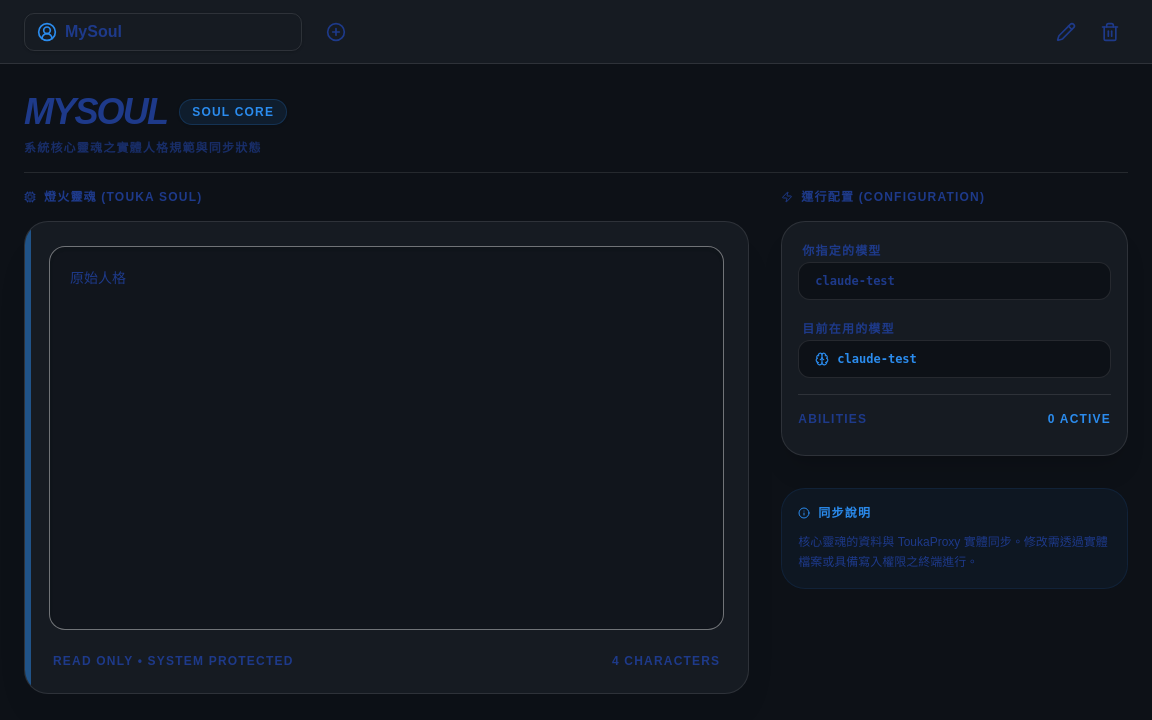
Scenario: SoulStudio — 保存結果必須可見 › 密碼錯誤在視窗內顯示，清密碼但保留草稿
Expected: the heading "MySoul" is shown, [24,92,167,132]
Step 1. Click the button titled "編輯靈魂" → (1066, 32), box [1048,14,1084,50]
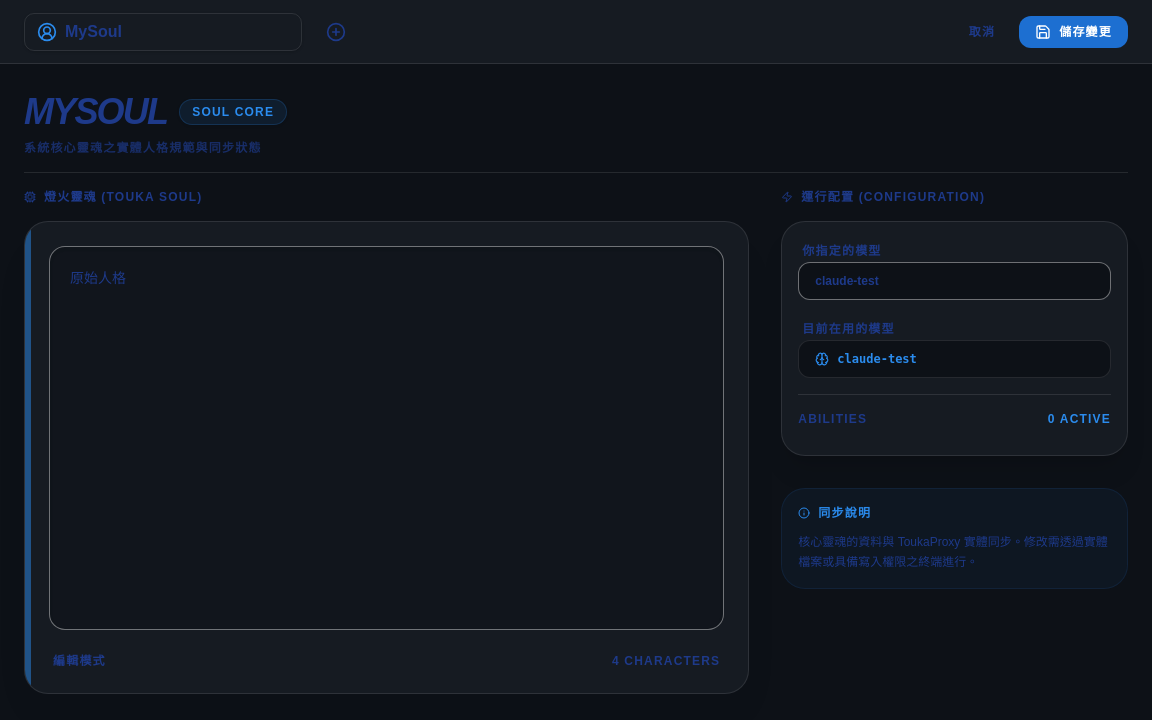
Step 2. Replace the text in the text box showing "原始人格" with "修訂後人格" → (387, 438), box [49,246,724,630]
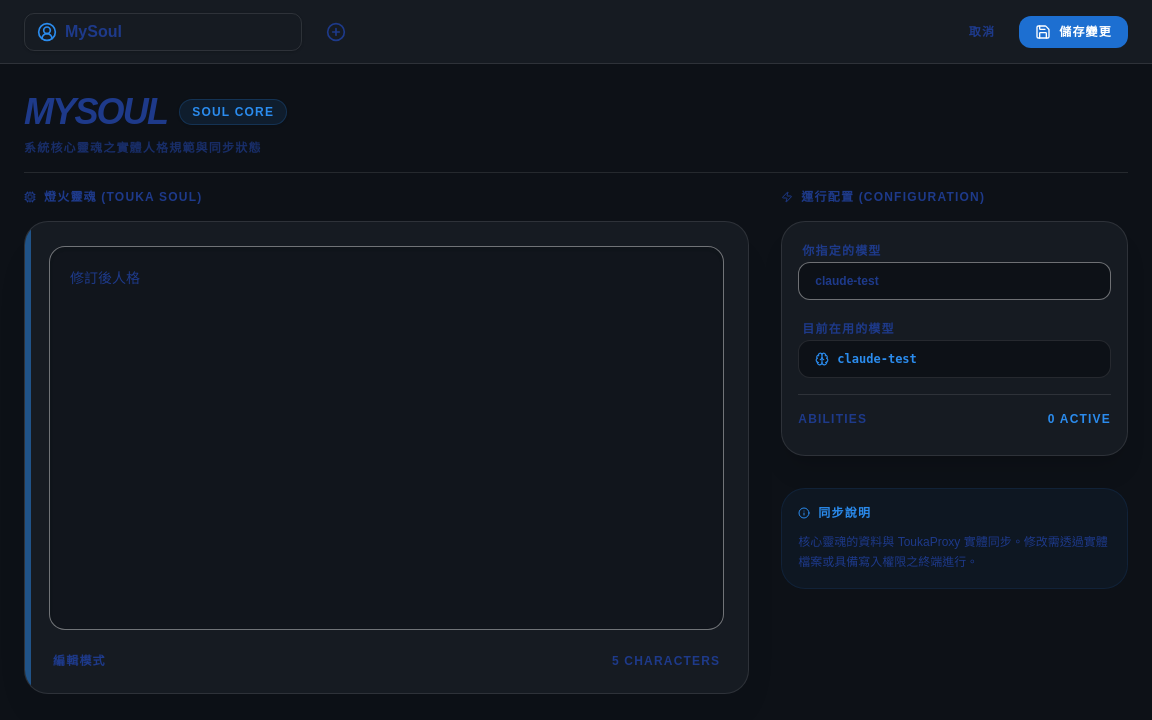
Step 3. Click the button "儲存變更" → (1074, 32), box [1019,16,1128,48]
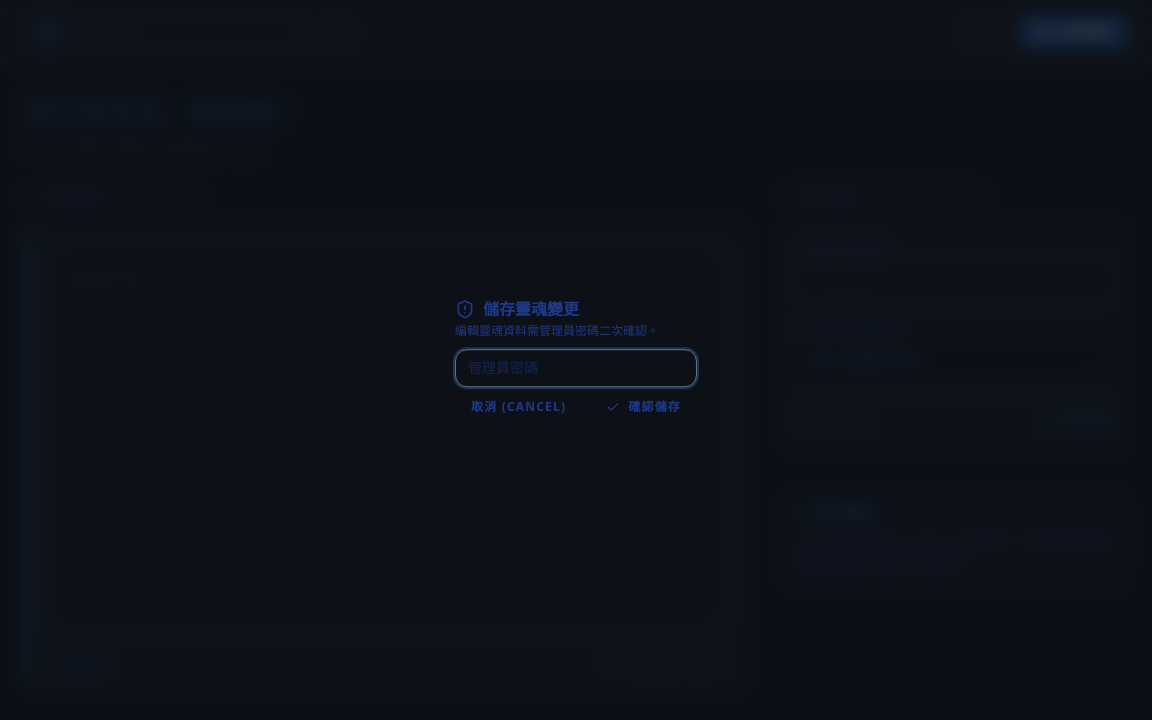
Step 4. Type "SyntheticPassword" into the password field with placeholder "管理員密碼" → (576, 368), box [455,349,697,387]
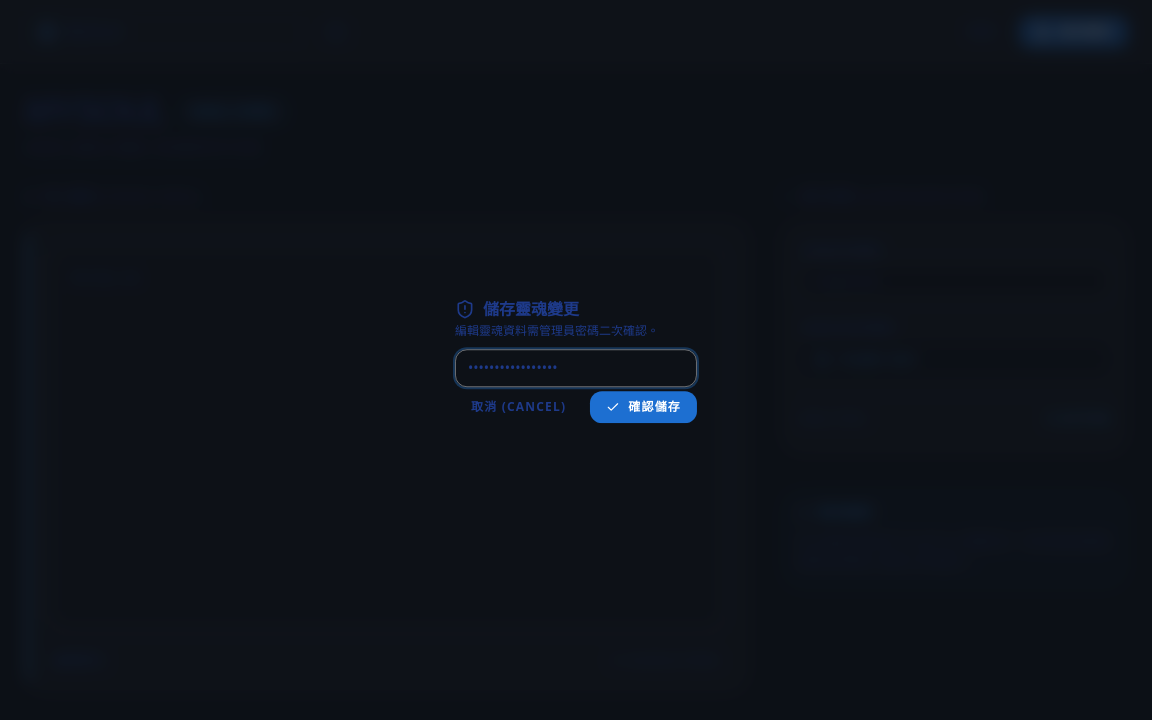
Step 5. Click the button "確認儲存" → (644, 407), box [590,391,697,423]
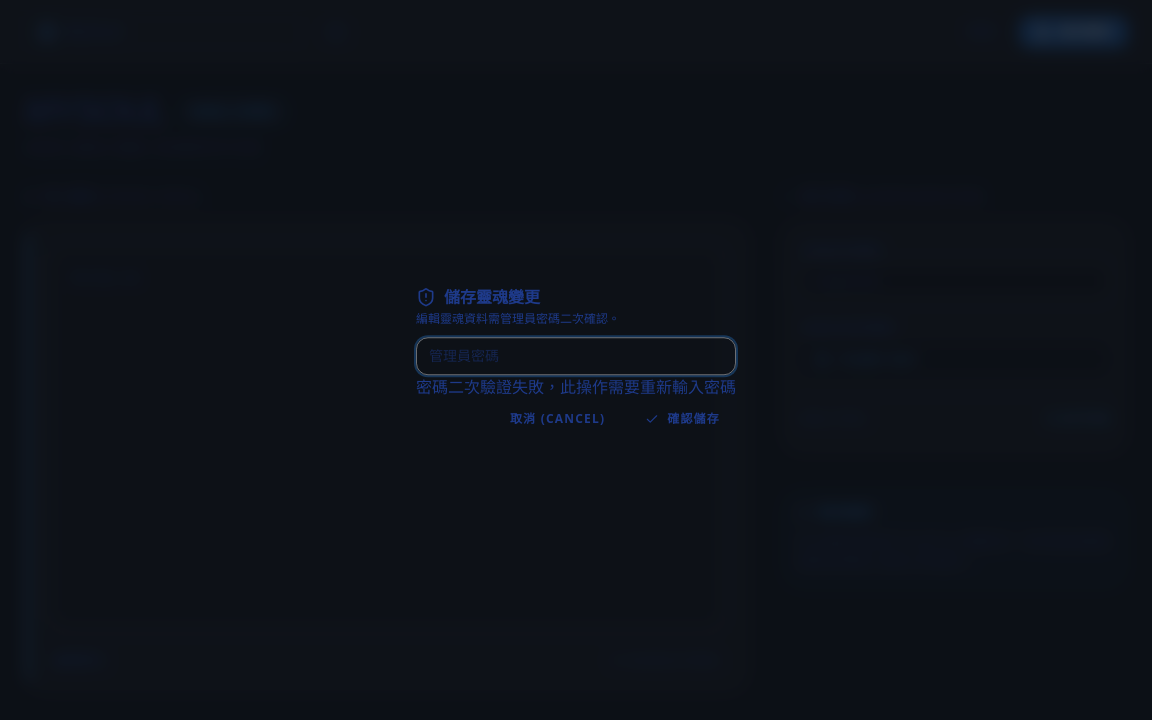
Now the message "密碼二次驗證失敗，此操作需要重新輸入密碼" is shown, box [416,375,736,399]
Now the password field with placeholder "管理員密碼" is empty, box [416,337,736,375]
